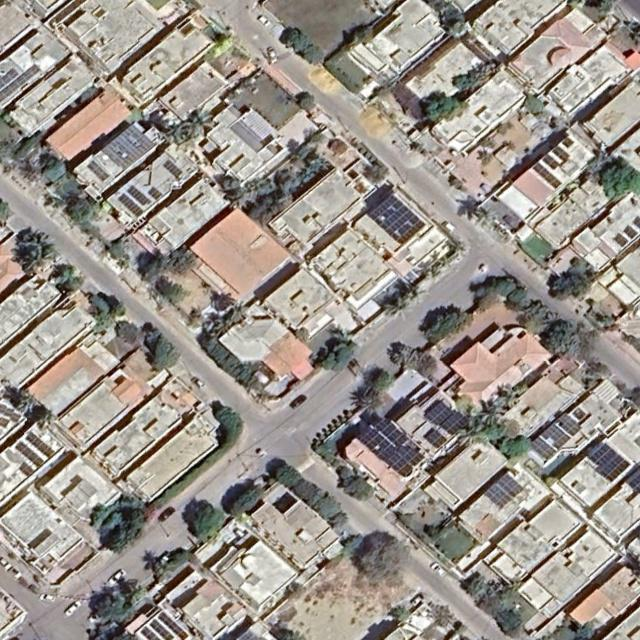solar panel: (355, 419, 426, 480), (367, 191, 425, 247), (102, 122, 155, 173), (586, 441, 630, 484), (425, 397, 468, 437), (0, 63, 40, 103), (377, 418, 408, 448), (540, 422, 571, 452), (14, 440, 45, 468), (159, 613, 189, 640), (26, 432, 56, 459), (484, 483, 512, 511), (533, 163, 562, 190), (497, 472, 525, 499), (530, 435, 557, 461), (118, 193, 144, 218), (149, 619, 174, 640), (127, 183, 149, 206), (87, 160, 109, 182), (426, 429, 447, 450), (0, 404, 22, 423), (0, 68, 18, 90), (163, 159, 183, 178), (141, 626, 162, 640), (552, 146, 570, 162), (622, 224, 638, 240), (543, 154, 559, 170), (613, 233, 629, 248), (19, 462, 34, 477), (148, 186, 163, 200), (562, 136, 574, 148), (0, 417, 9, 428)
